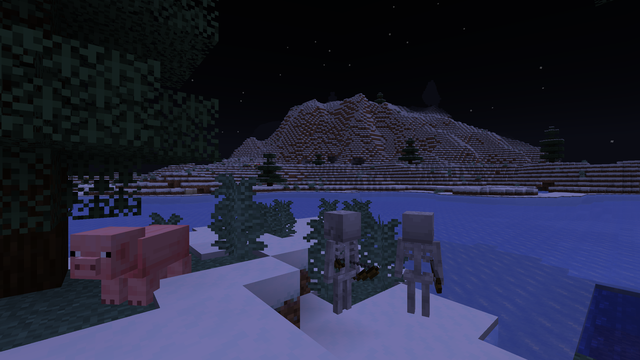cochons: (108, 222, 189, 312)
squelettes: (395, 210, 441, 332), (320, 210, 364, 329)
